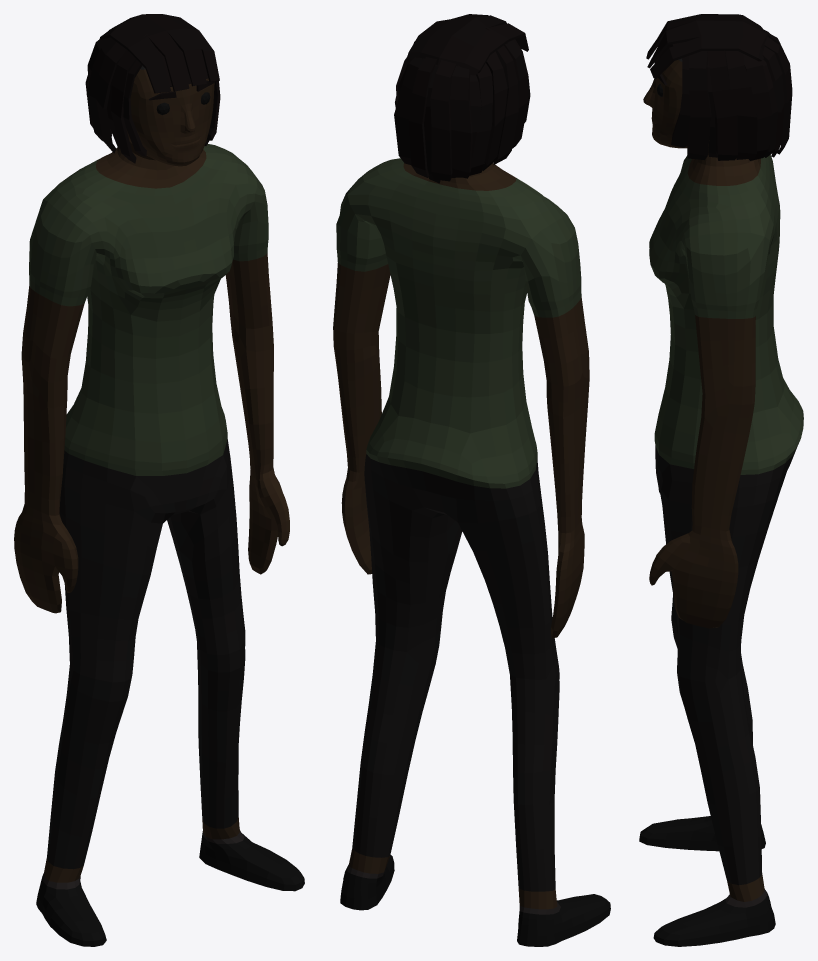
The model's file is Smooth_Female_Casual.obj.
The picture shows the model from 3 angles, left to right: view 1: azimuth 30°, elevation 25°; view 2: azimuth 150°, elevation 25°; view 3: azimuth 270°, elevation 25°; orthographic projection. The views are drawn at different scales.
Parts seen in each view (by area): view 1: Female_Cylinder.005; view 2: Female_Cylinder.005; view 3: Female_Cylinder.005.
Boxes of the visible parts, x1,y1,x2,y2 form: Female_Cylinder.005: (14,14,304,946); Female_Cylinder.005: (333,14,610,946); Female_Cylinder.005: (639,14,803,946).
Bounding box in the file's own units: 1.37 × 4.62 × 0.7967.
